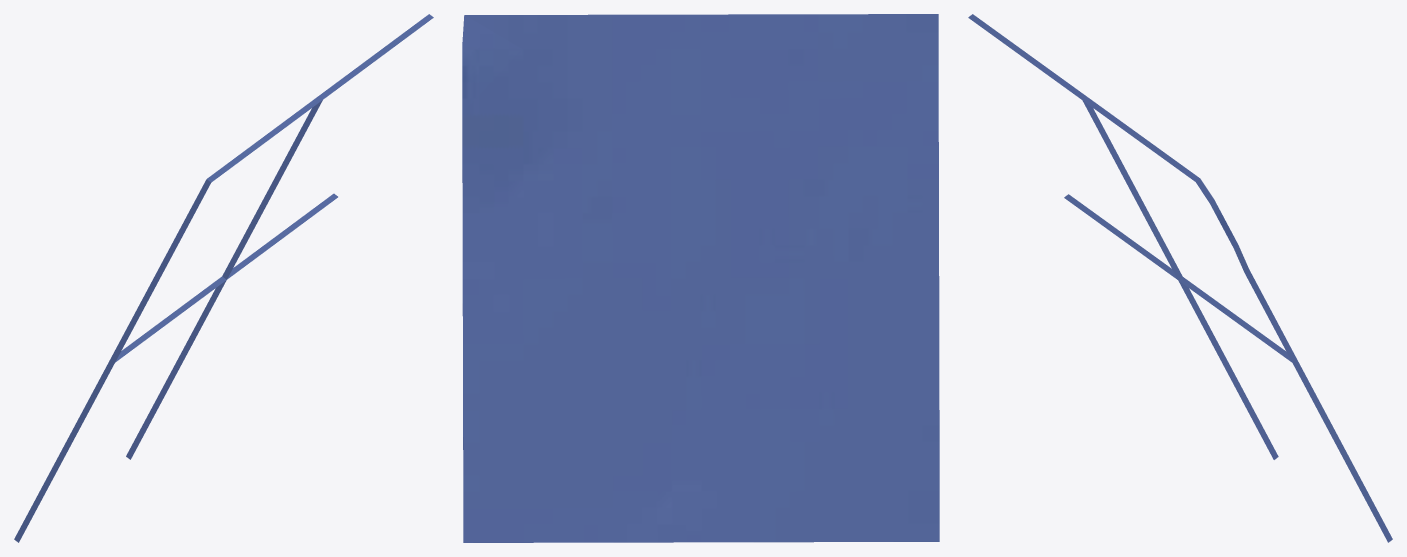
The picture shows the model from 3 angles, left to right: view 1: azimuth 30°, elevation 25°; view 2: azimuth 150°, elevation 25°; view 3: azimuth 270°, elevation 25°; orthographic projection. The views are drawn at different scales.
Size of the model in its own units: 19698 by 17686 by 16612.
1 material, 1 textured.
